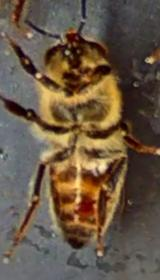varroa_mite: (63, 188, 109, 222)
